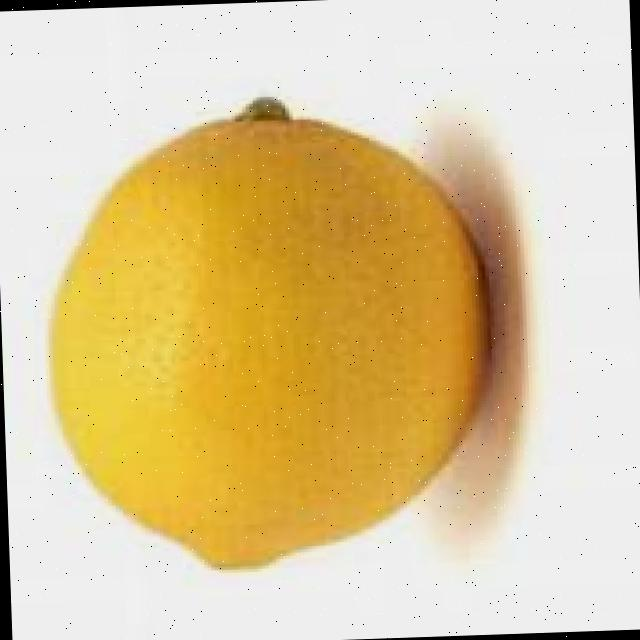Ripe: (30, 89, 503, 589)
